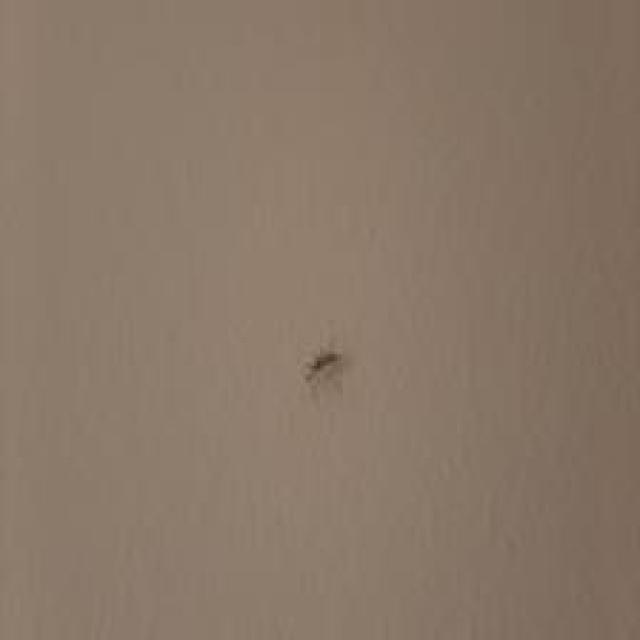Culex: (303, 350, 340, 384)
